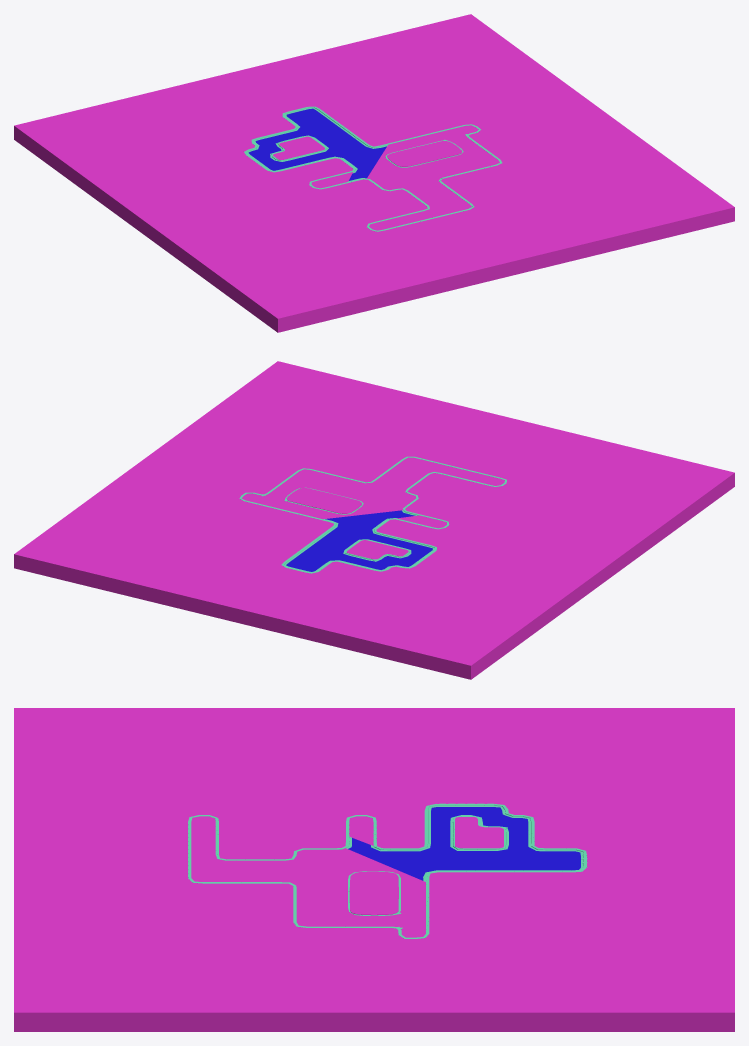
The model's file is RoadBrock_000.fbx.
The picture shows the model from 3 angles, top to bottom: view 1: azimuth 30°, elevation 25°; view 2: azimuth 150°, elevation 25°; view 3: azimuth 270°, elevation 25°; orthographic projection. The views are drawn at different scales.
Parts seen in each view (by area): view 1: Road_Out001, Road_In001, RoadBrick002, Road_In002, Road_In003; view 2: Road_Out001, Road_In001, RoadBrick002, Road_In002, Road_In003; view 3: Road_Out001, Road_In001, RoadBrick002, Road_In002, Road_In003, RoadBrick003.
Part boxes in pixels (x1=…): Road_Out001: x1=14, y1=14, x2=734, y2=332; Road_In001: x1=248, y1=108, x2=386, y2=180; RoadBrick002: x1=244, y1=106, x2=502, y2=231; Road_In002: x1=387, y1=141, x2=462, y2=166; Road_In003: x1=273, y1=136, x2=324, y2=159; Road_Out001: x1=14, y1=361, x2=734, y2=679; Road_In001: x1=286, y1=510, x2=432, y2=571; RoadBrick002: x1=239, y1=456, x2=506, y2=573; Road_In002: x1=286, y1=488, x2=361, y2=513; Road_In003: x1=346, y1=540, x2=408, y2=559; Road_Out001: x1=14, y1=708, x2=734, y2=1031; Road_In001: x1=348, y1=807, x2=580, y2=880; RoadBrick002: x1=188, y1=803, x2=587, y2=938; Road_In002: x1=349, y1=871, x2=398, y2=915; Road_In003: x1=455, y1=817, x2=503, y2=848; RoadBrick003: x1=450, y1=815, x2=508, y2=850.
Size of the model in its own units: 12692 by 396 by 12692.
